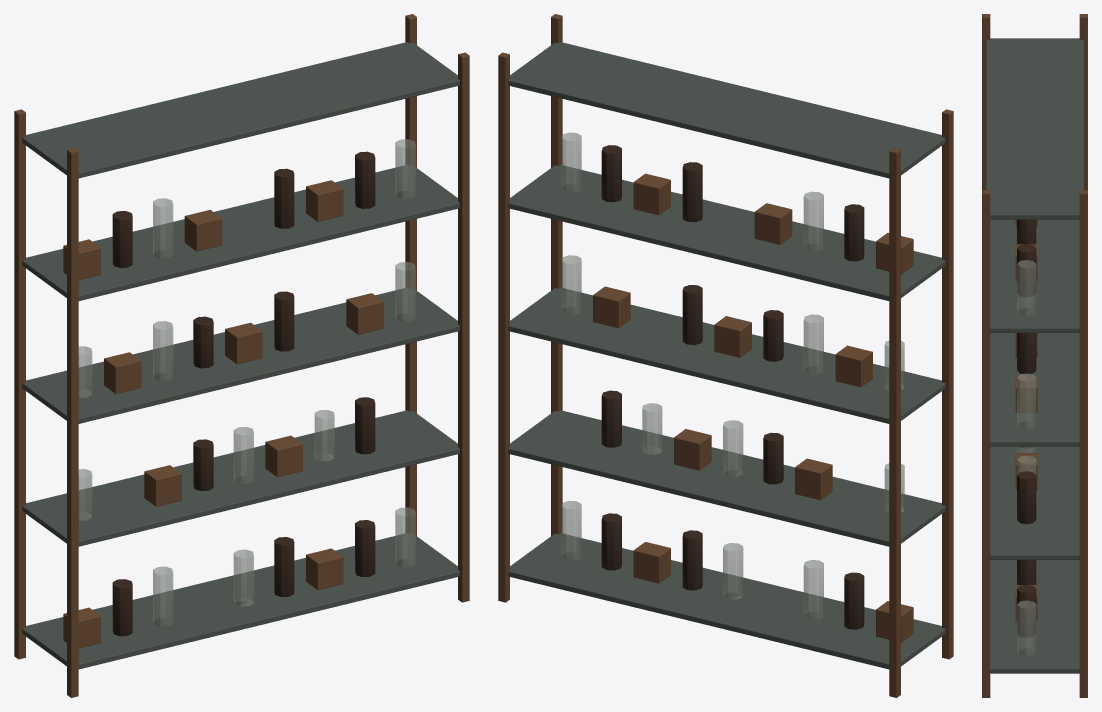
File: PROP_Shelf_Medication_Historic.glb
The picture shows the model from 3 angles, left to right: view 1: azimuth 30°, elevation 25°; view 2: azimuth 150°, elevation 25°; view 3: azimuth 270°, elevation 25°; orthographic projection. The views are drawn at different scales.
Visible parts, largest first — view 1: PROP_Shelf_Medication_Historic_Mesh; view 2: PROP_Shelf_Medication_Historic_Mesh; view 3: PROP_Shelf_Medication_Historic_Mesh.
Boxes of the visible parts, x1=… form: PROP_Shelf_Medication_Historic_Mesh: x1=14, y1=14, x2=469, y2=697; PROP_Shelf_Medication_Historic_Mesh: x1=498, y1=14, x2=953, y2=697; PROP_Shelf_Medication_Historic_Mesh: x1=982, y1=14, x2=1087, y2=697.
Size of what is drawn, in the model's own units: 1.53 by 2 by 0.38.
